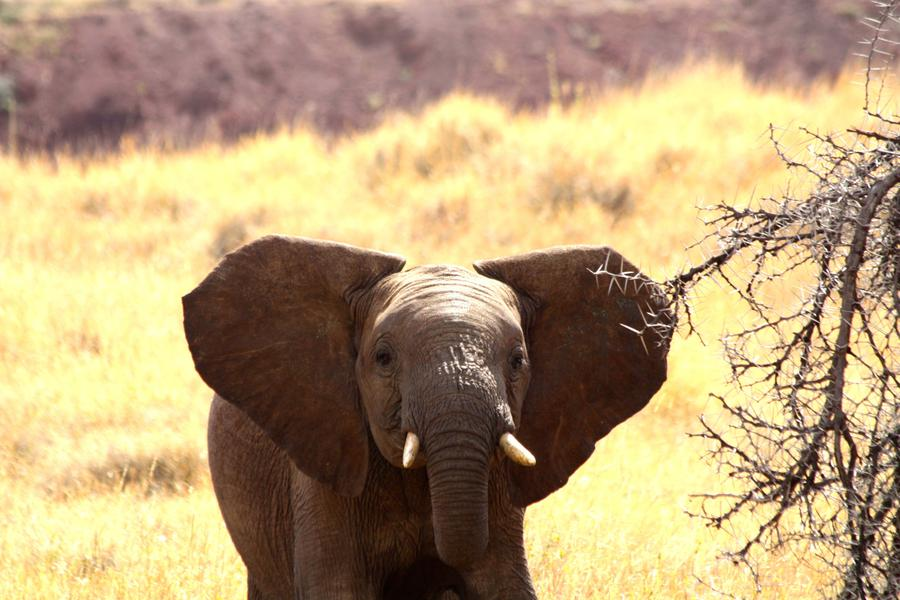elephant: (186, 240, 630, 492)
